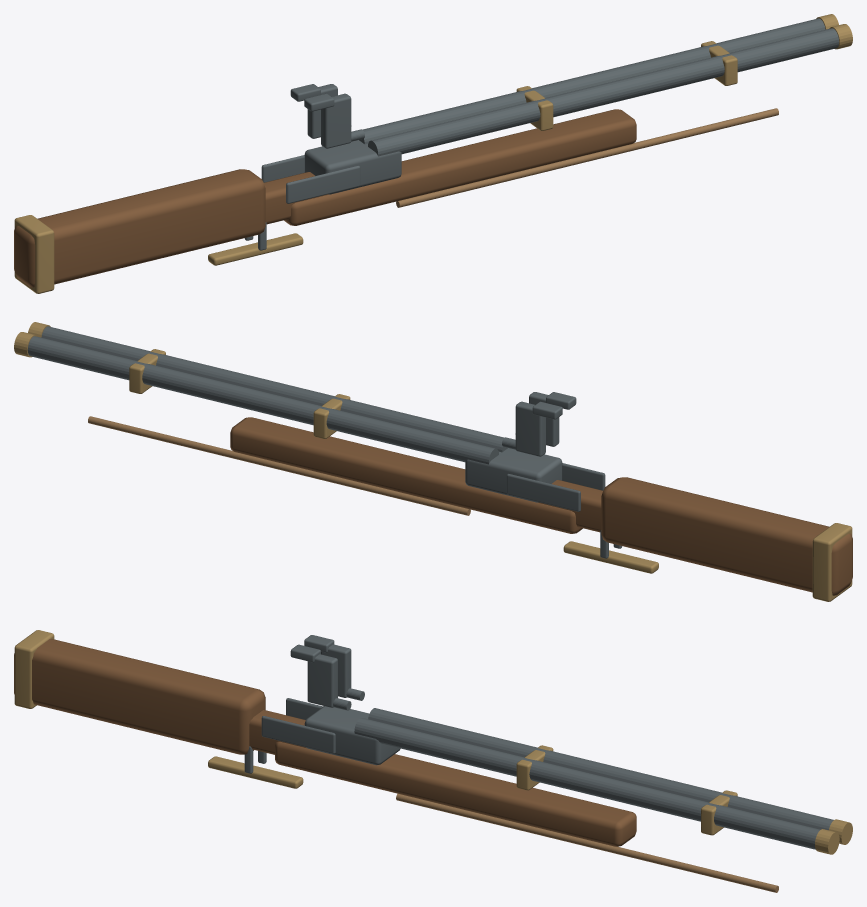
File: double_percussion_gun.glb
3 renders of one model, top to bottom at view 1: azimuth 30°, elevation 25°; view 2: azimuth 150°, elevation 25°; view 3: azimuth 330°, elevation 25°, orthographic.
Parts seen in each view (by area): view 1: walnut buttstock, long fore-end, barrel left, barrel right, wooden ramrod, breech block, stock shoulder heel, lock plate, external hammer, slender wrist, double trigger guard, lock plate.001 (+3 smaller); view 2: walnut buttstock, long fore-end, barrel right, barrel left, wooden ramrod, breech block, stock shoulder heel, lock plate.001, external hammer.001, slender wrist, double trigger guard, lock plate (+3 smaller); view 3: walnut buttstock, long fore-end, barrel left, barrel right, wooden ramrod, breech block, lock plate, stock shoulder heel, external hammer, double trigger guard, slender wrist, external hammer.001 (+4 smaller).
Part boxes in pixels (<box>): walnut buttstock: <box>14,169,265,287</box>; long fore-end: <box>284,109,636,225</box>; barrel left: <box>368,28,839,156</box>; barrel right: <box>359,18,825,144</box>; wooden ramrod: <box>396,108,778,207</box>; breech block: <box>304,140,401,194</box>; stock shoulder heel: <box>14,215,54,293</box>; lock plate: <box>286,166,360,203</box>; external hammer: <box>321,93,351,148</box>; slender wrist: <box>264,172,328,224</box>; double trigger guard: <box>208,233,303,265</box>; lock plate.001: <box>261,155,304,182</box>; walnut buttstock: <box>601,477,852,595</box>; long fore-end: <box>230,417,582,533</box>; barrel right: <box>27,336,498,464</box>; barrel left: <box>41,326,507,452</box>; wooden ramrod: <box>88,416,470,515</box>; breech block: <box>465,448,562,502</box>; stock shoulder heel: <box>812,523,852,601</box>; lock plate.001: <box>506,474,580,511</box>; external hammer.001: <box>515,401,545,456</box>; slender wrist: <box>538,480,602,532</box>; double trigger guard: <box>563,541,658,573</box>; lock plate: <box>562,463,605,490</box>; walnut buttstock: <box>14,639,265,754</box>; long fore-end: <box>275,741,636,846</box>; barrel left: <box>354,718,820,849</box>; barrel right: <box>368,708,833,830</box>; wooden ramrod: <box>396,793,778,892</box>; breech block: <box>304,706,400,765</box>; lock plate: <box>261,716,335,753</box>; stock shoulder heel: <box>14,630,54,708</box>; external hammer: <box>307,654,337,707</box>; double trigger guard: <box>208,756,303,788</box>; slender wrist: <box>249,710,306,754</box>; external hammer.001: <box>321,644,351,697</box>.
Size of the model in its own units: 1.56 by 0.2645 by 0.087.
